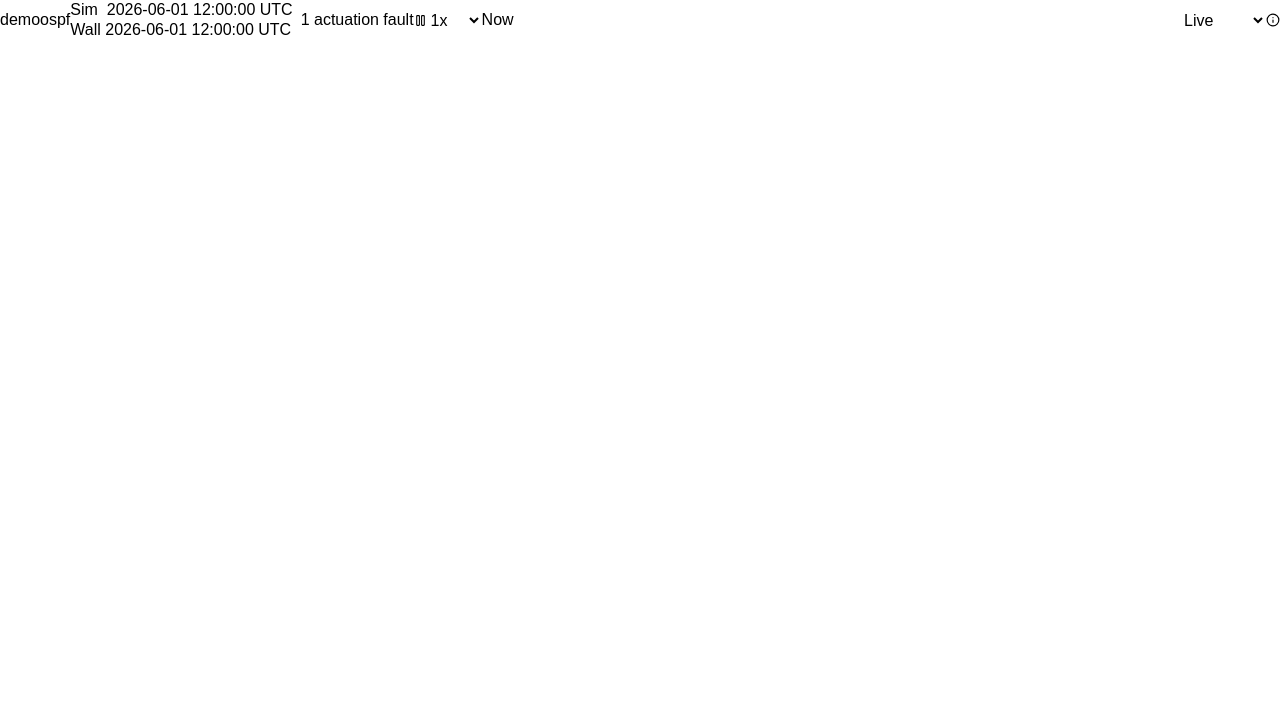
Scenario: TopBar actuation notices › renders a human-readable clickable fault with operator details
Step 1. Click the button "1 actuation fault" → (353, 20), box [293,11,414,29]
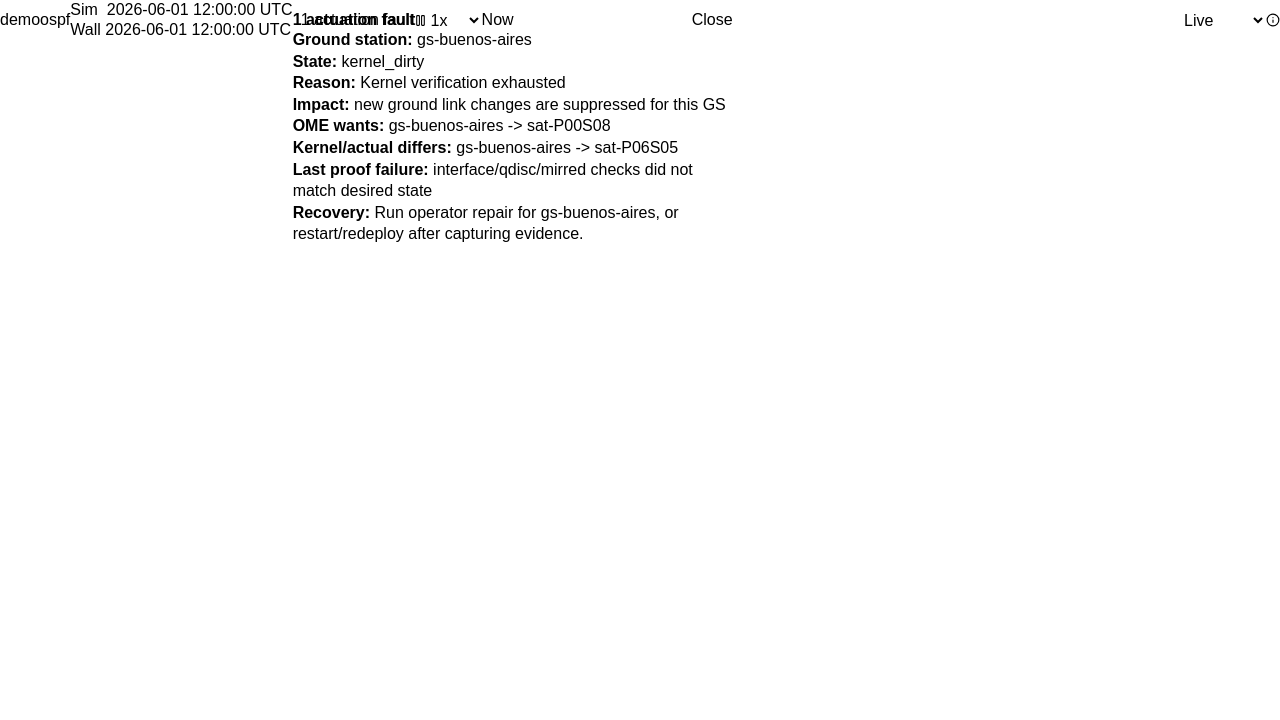
Expected: the dialog named "actuation condition details" is shown, [293,11,733,245]
Expected: the text "Ground station:" is shown, [293,31,413,48]
Expected: the text "gs-buenos-aires" is shown, [417,31,532,48]
